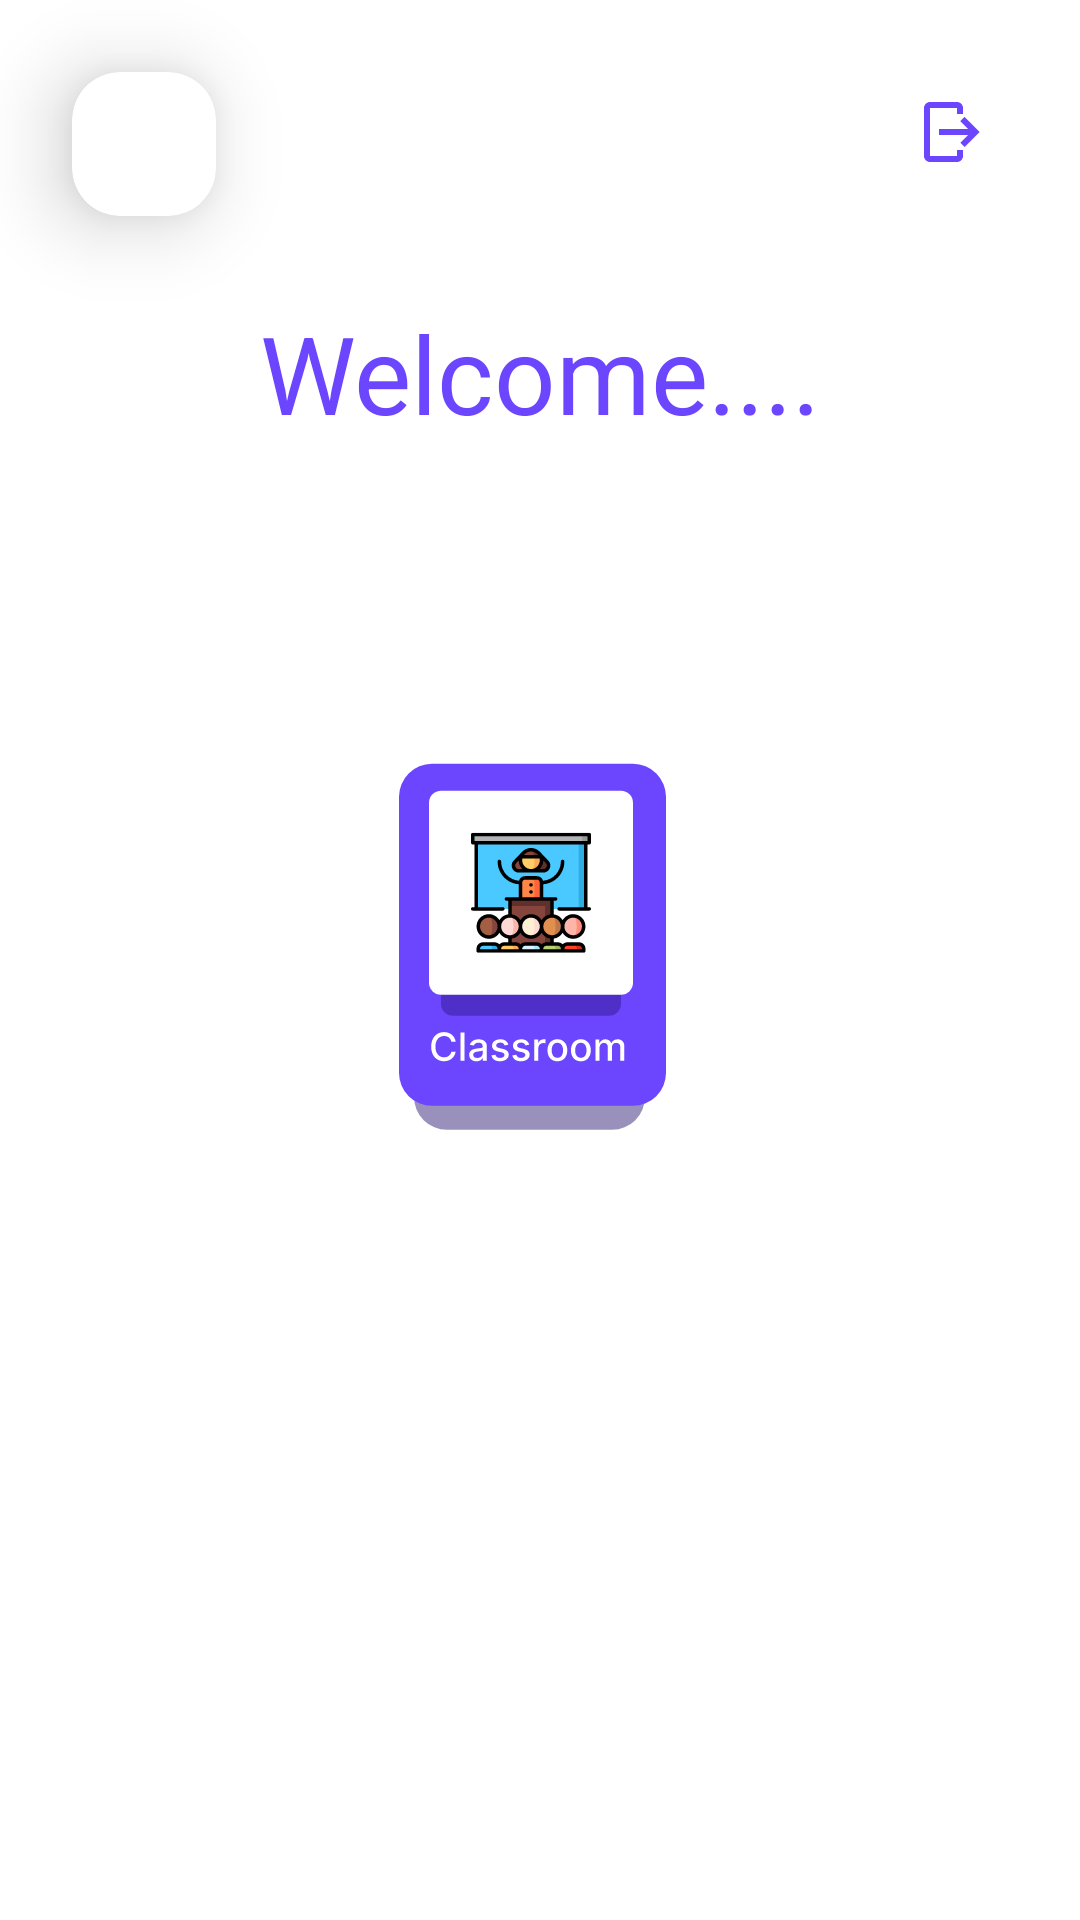

Named icons in this screenshot (1080w x 1920h) and their centers, point (x, y):
log out: point (952, 132)
